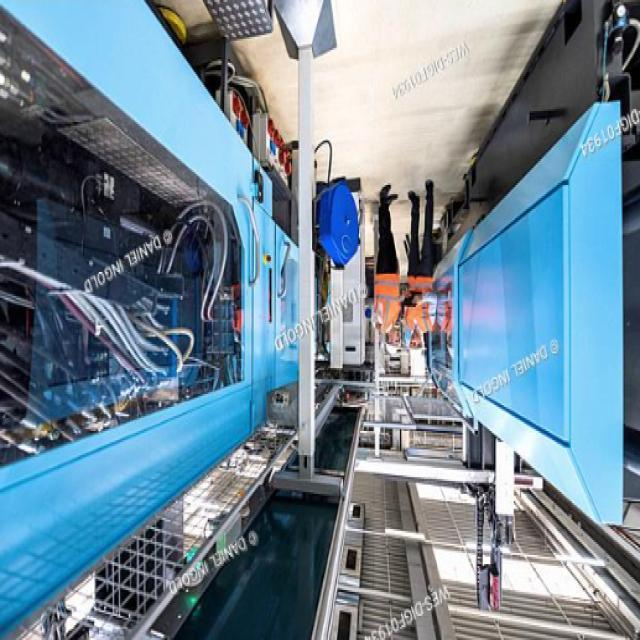hard_hat: (408, 332, 426, 363), (385, 325, 403, 355)
shoes: (407, 179, 437, 209), (378, 183, 400, 211)
vest: (404, 275, 436, 337), (372, 273, 400, 331)
